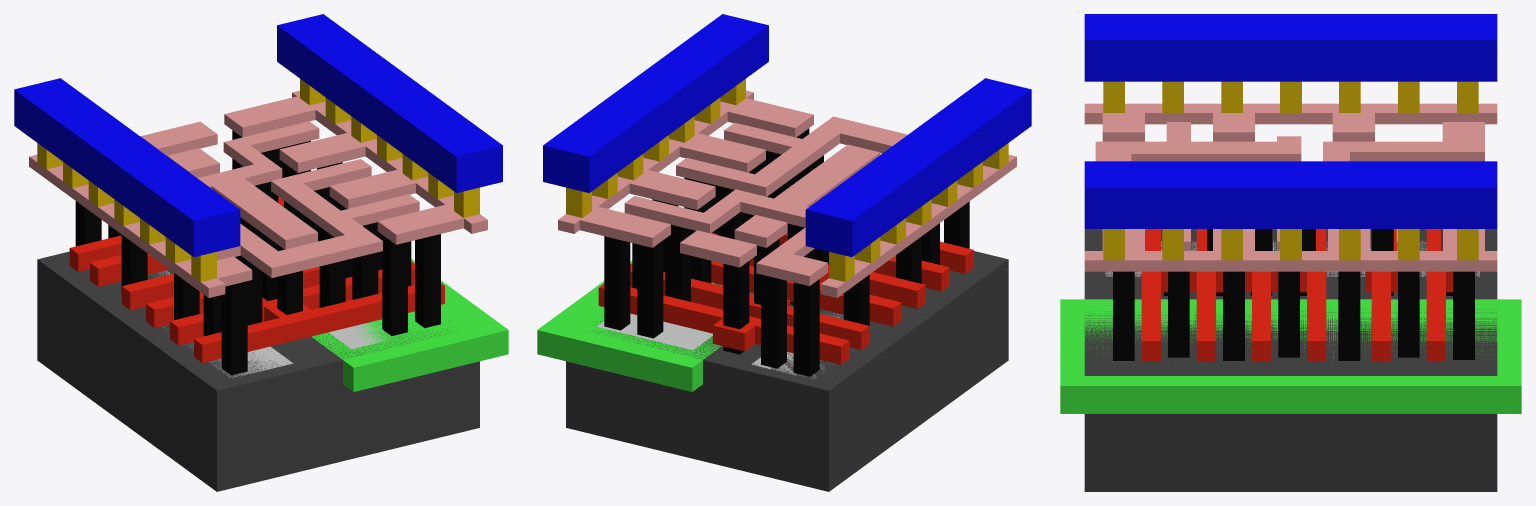
The model's file is sky130_fd_sc_hd__and2_4.obj.
3 renders of one model, left to right at view 1: azimuth 30°, elevation 25°; view 2: azimuth 150°, elevation 25°; view 3: azimuth 270°, elevation 25°, orthographic. The views are drawn at different scales.
Visible parts, largest first — view 1: subs, metal1, li, licon, poly, nwell, mcon, diff, tap; view 2: subs, metal1, li, licon, poly, nwell, mcon, tap; view 3: metal1, subs, li, nwell, licon, poly, mcon.
Boxes of the visible parts, x1,y1,x2,y2 form: subs: [37, 251, 479, 491]; metal1: [14, 14, 502, 257]; li: [29, 90, 487, 297]; licon: [75, 130, 440, 375]; poly: [69, 197, 444, 362]; nwell: [311, 259, 508, 391]; mcon: [37, 79, 479, 281]; diff: [152, 270, 293, 378]; tap: [329, 321, 390, 349]; subs: [566, 251, 1008, 491]; metal1: [543, 14, 1031, 257]; li: [558, 90, 1016, 297]; licon: [604, 128, 969, 376]; poly: [598, 233, 973, 364]; nwell: [537, 260, 721, 391]; mcon: [566, 79, 1008, 281]; tap: [596, 282, 720, 350]; metal1: [1084, 14, 1497, 228]; subs: [1084, 229, 1497, 491]; li: [1084, 103, 1497, 271]; nwell: [1060, 299, 1521, 413]; licon: [1113, 229, 1474, 360]; poly: [1141, 229, 1452, 361]; mcon: [1103, 81, 1478, 260].
Size of the model in its own units: 3.2 by 2.74 by 3.6.
